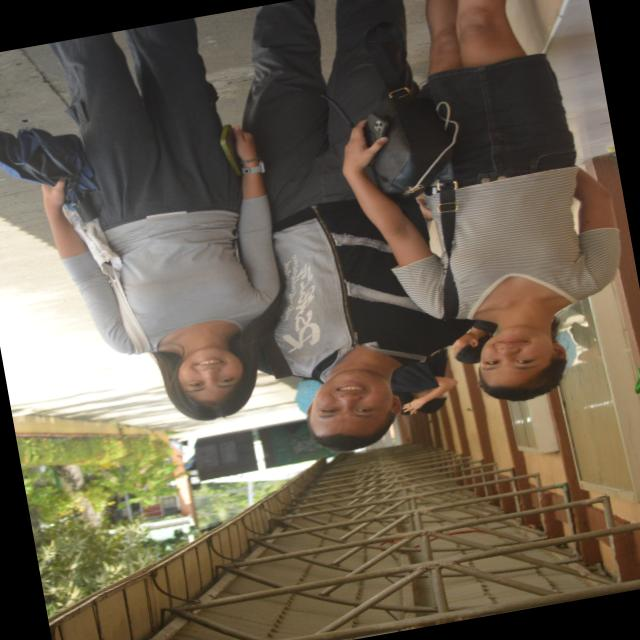person: (244, 0, 471, 450), (51, 18, 281, 419), (427, 0, 620, 399), (391, 348, 456, 414), (452, 319, 497, 363)
